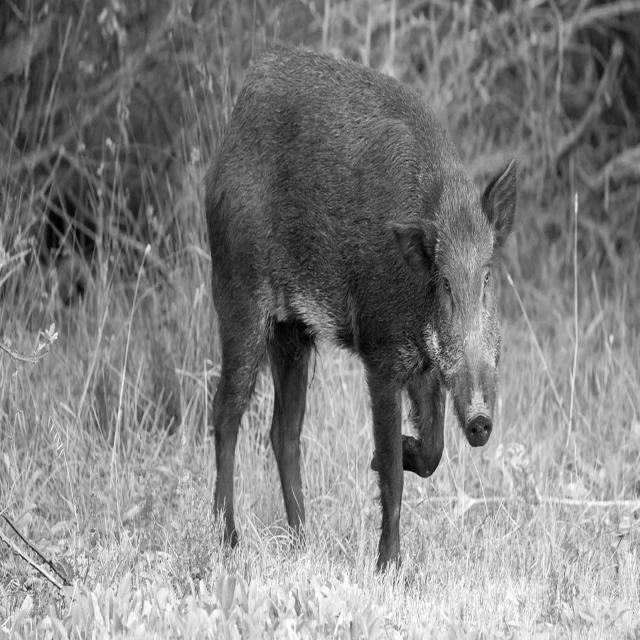boar: (205, 43, 516, 569)
